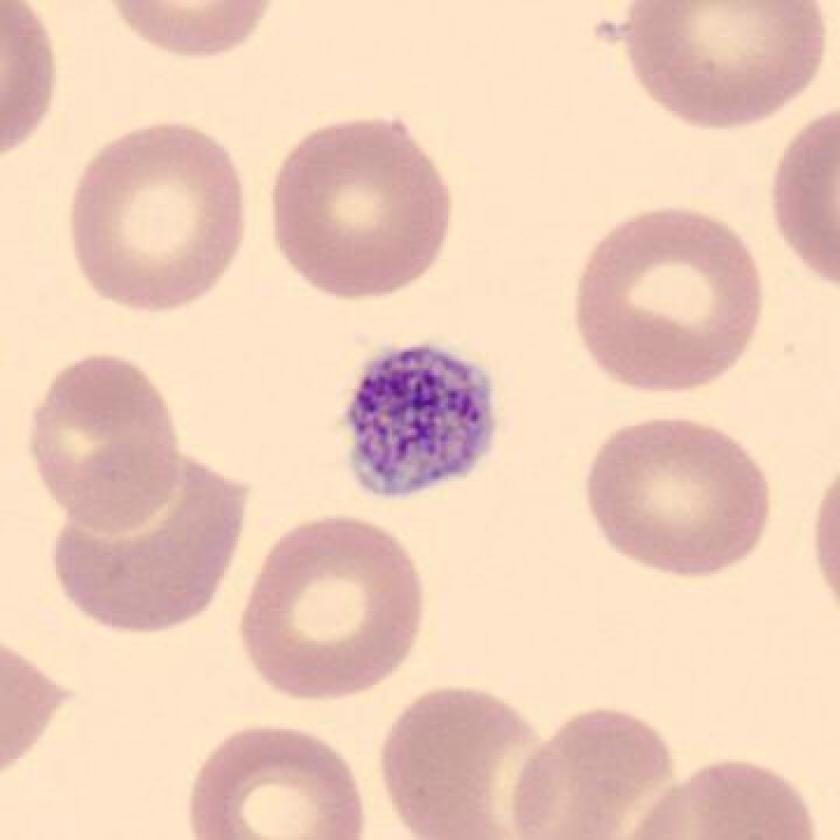platelets: (340, 332, 508, 510)
